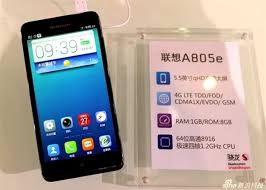lenovo: (19, 10, 126, 183)
